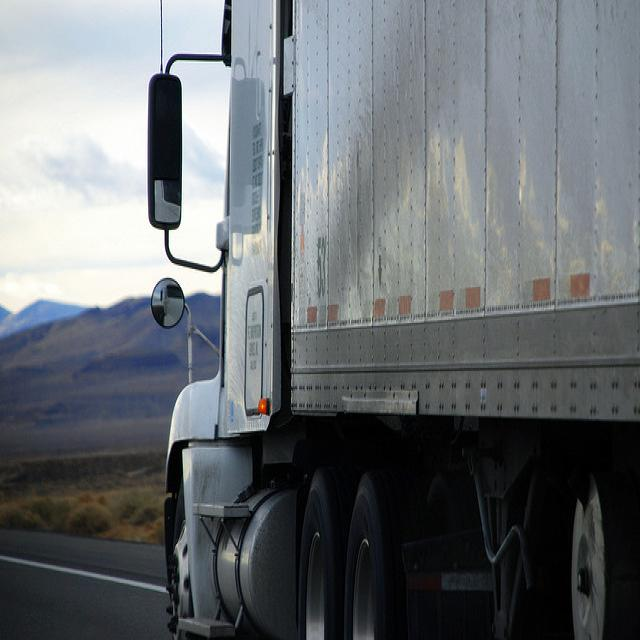Vehicle: (147, 1, 640, 633)
